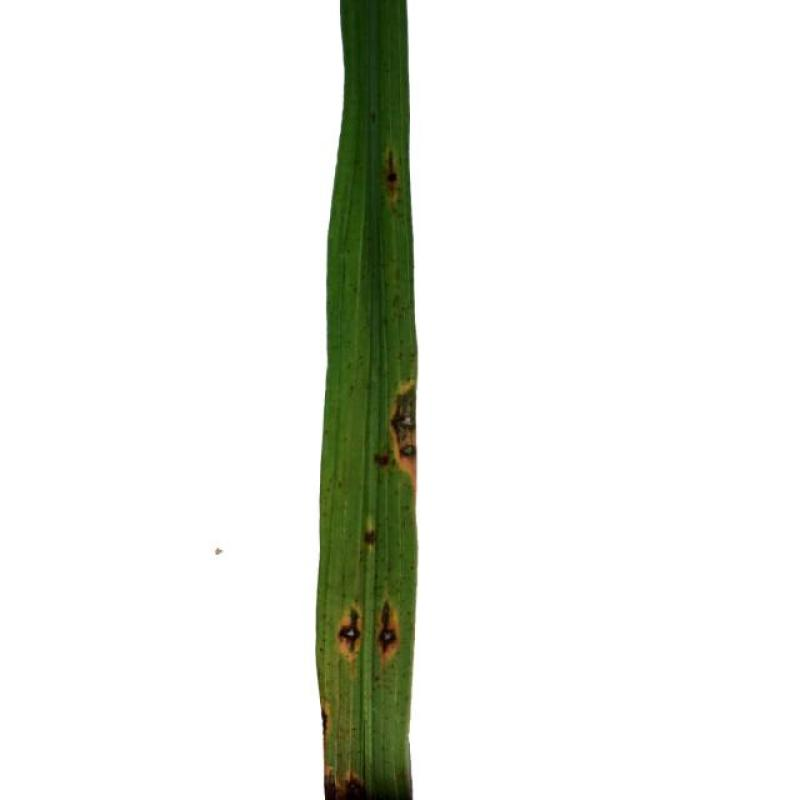Leaf_Blast: (385, 375, 416, 474), (372, 590, 404, 661), (325, 760, 370, 800), (332, 605, 366, 657), (382, 145, 404, 200)
